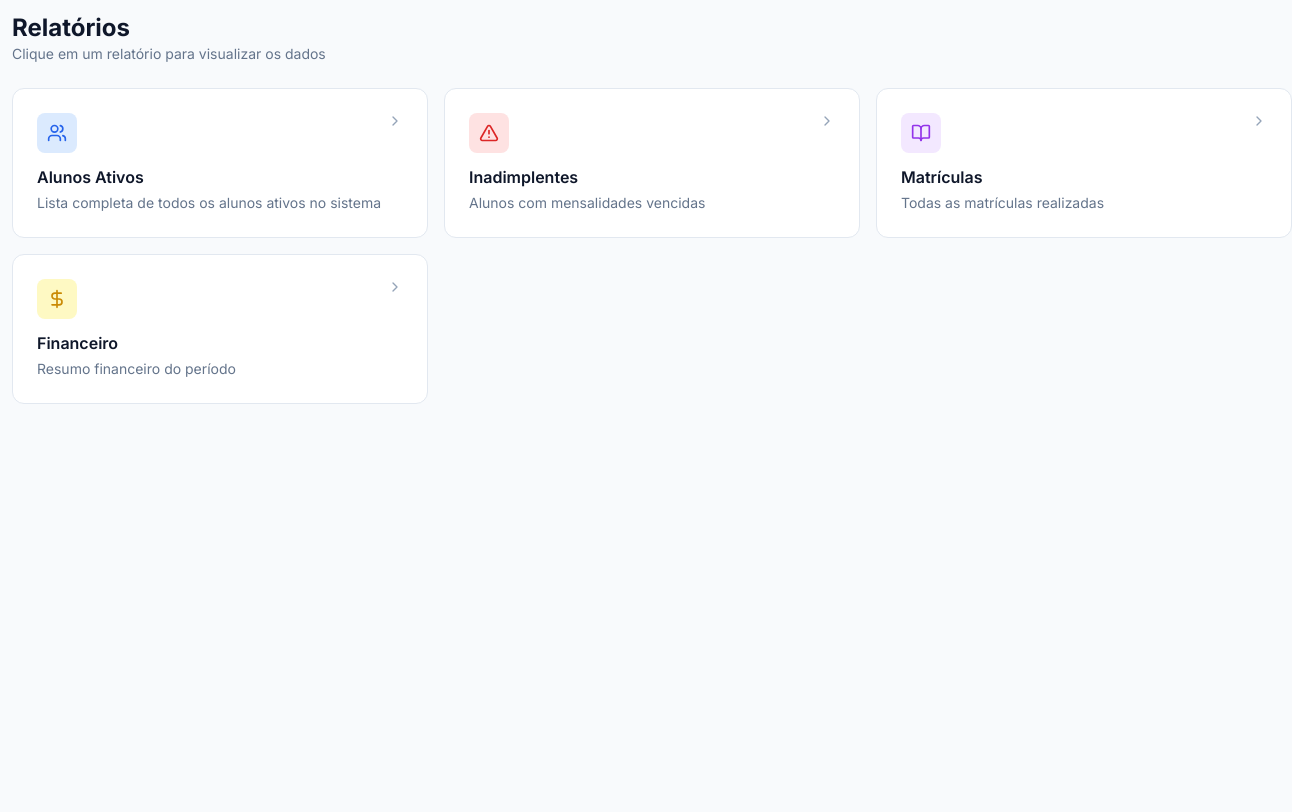
Test: Reports › carrega o relatório de Alunos Ativos e exibe os dados retornados pela API
Step 1. Click the heading "Alunos Ativos" → (90,177), box [37,167,144,187]
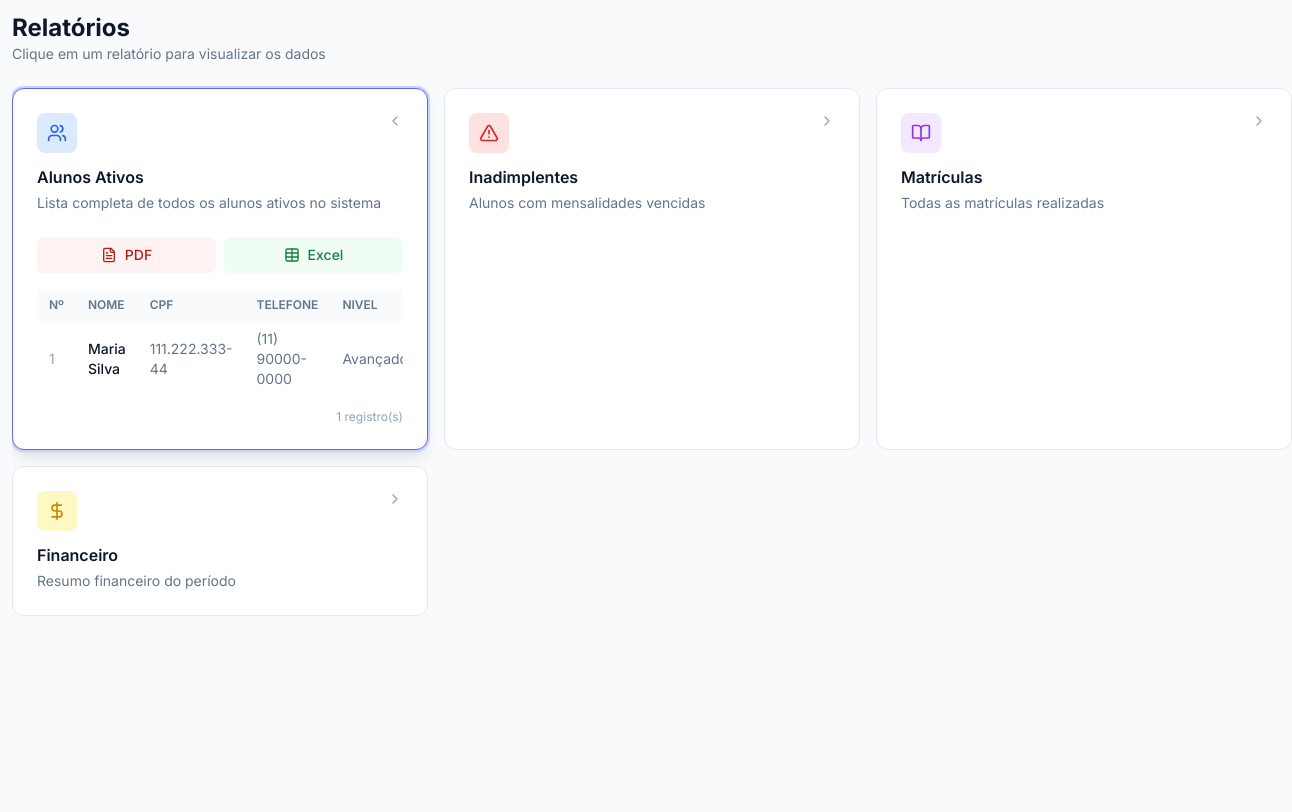
expect the text "Maria Silva" is shown: met, box [76,321,138,397]
expect the text "Avançado" is shown: met, box [330,321,403,397]
